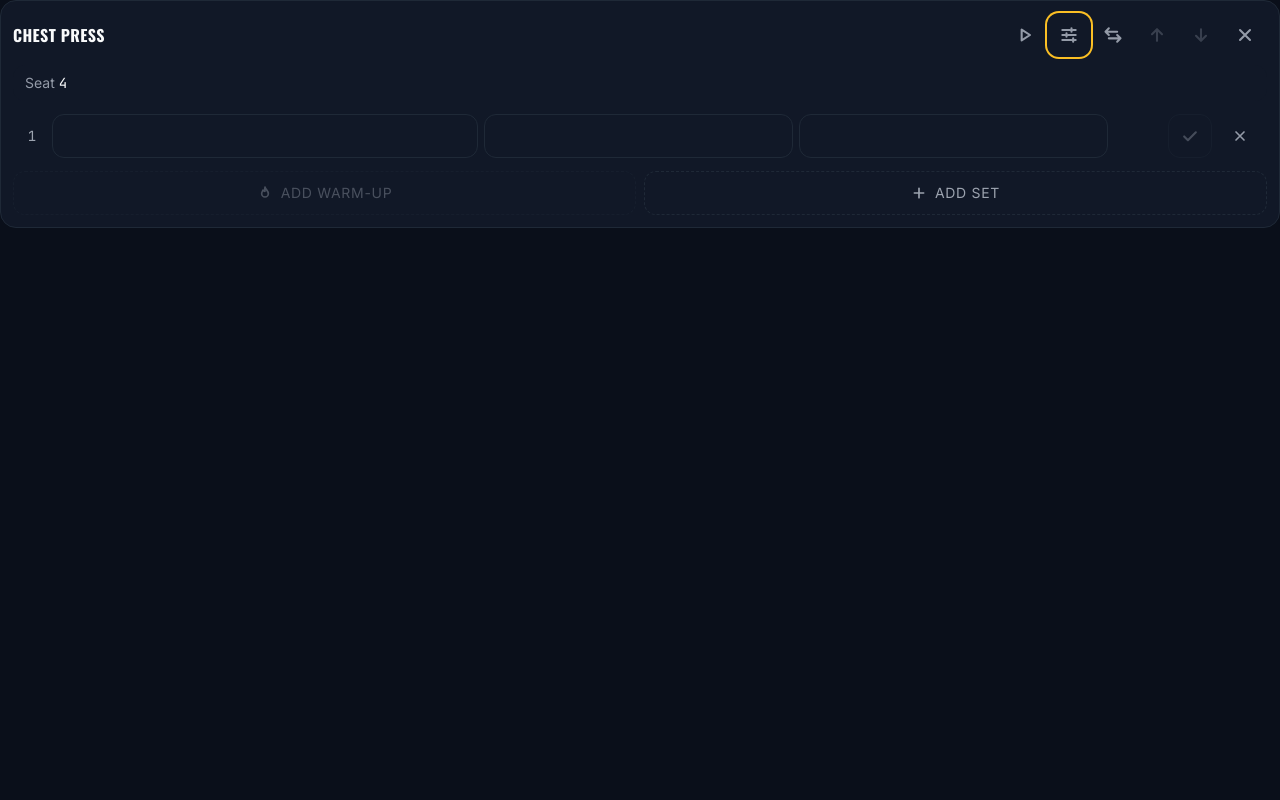
Test: machine setup on the exercise card › edit → save writes via useWorkout().setup.save, closes the sheet and shows the saved setup
The image size is (1280, 800).
Expected: the element with test id "exercise-setup" is shown, [13,65,1267,101]
Click the button with test id "edit-setup" at (1069, 35), box [1047,13,1091,57]
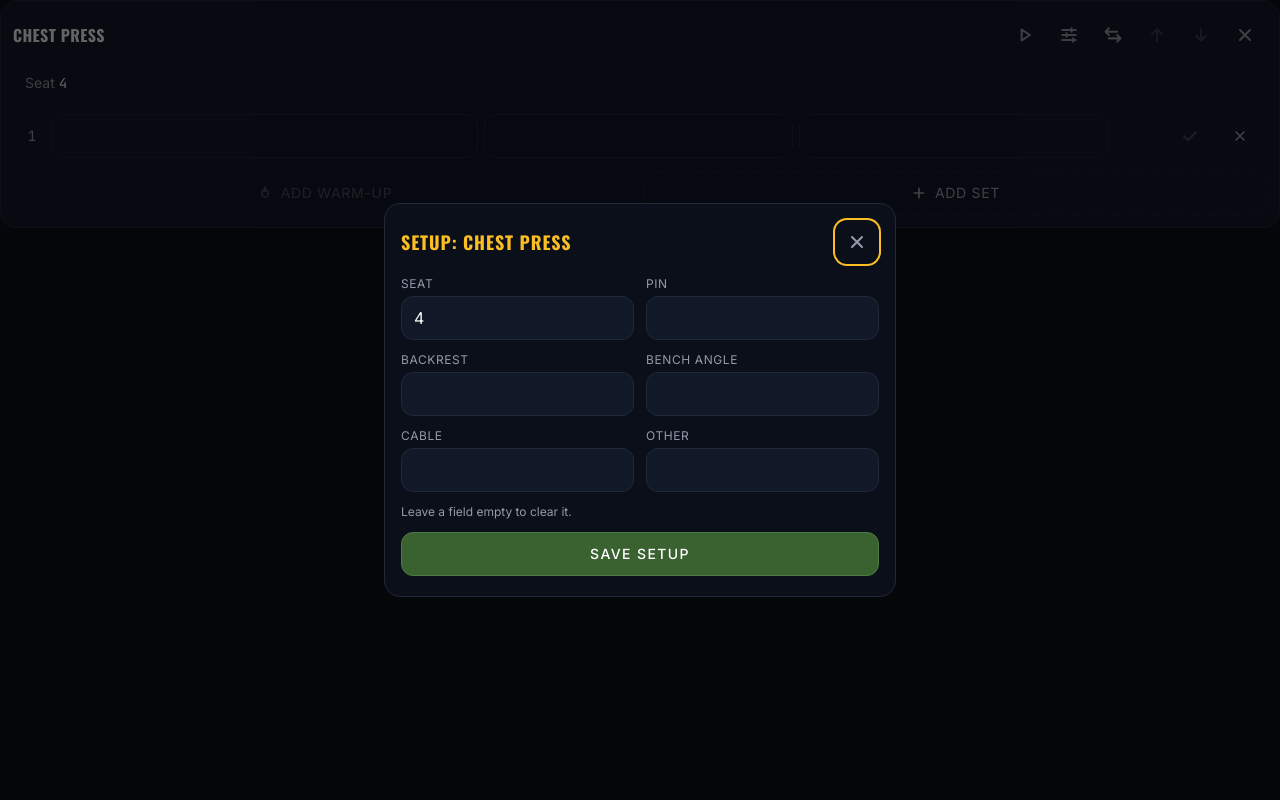
Expected: the field with test id "setup-seat" holds "4", [401,296,634,340]
Type "7" into the field with test id "setup-pin" at (762, 318), box [646,296,879,340]
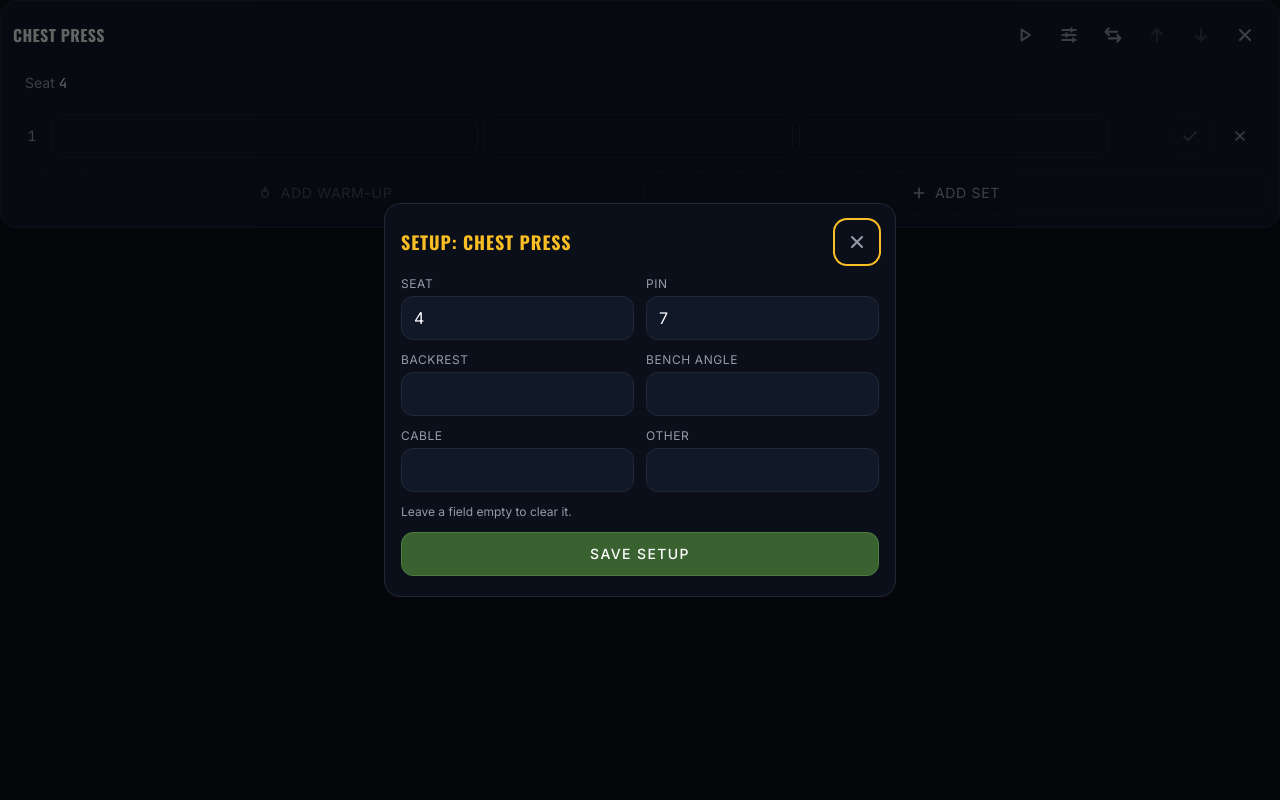
Replace the text in the field with test id "setup-seat" with "5" at (518, 318), box [401,296,634,340]
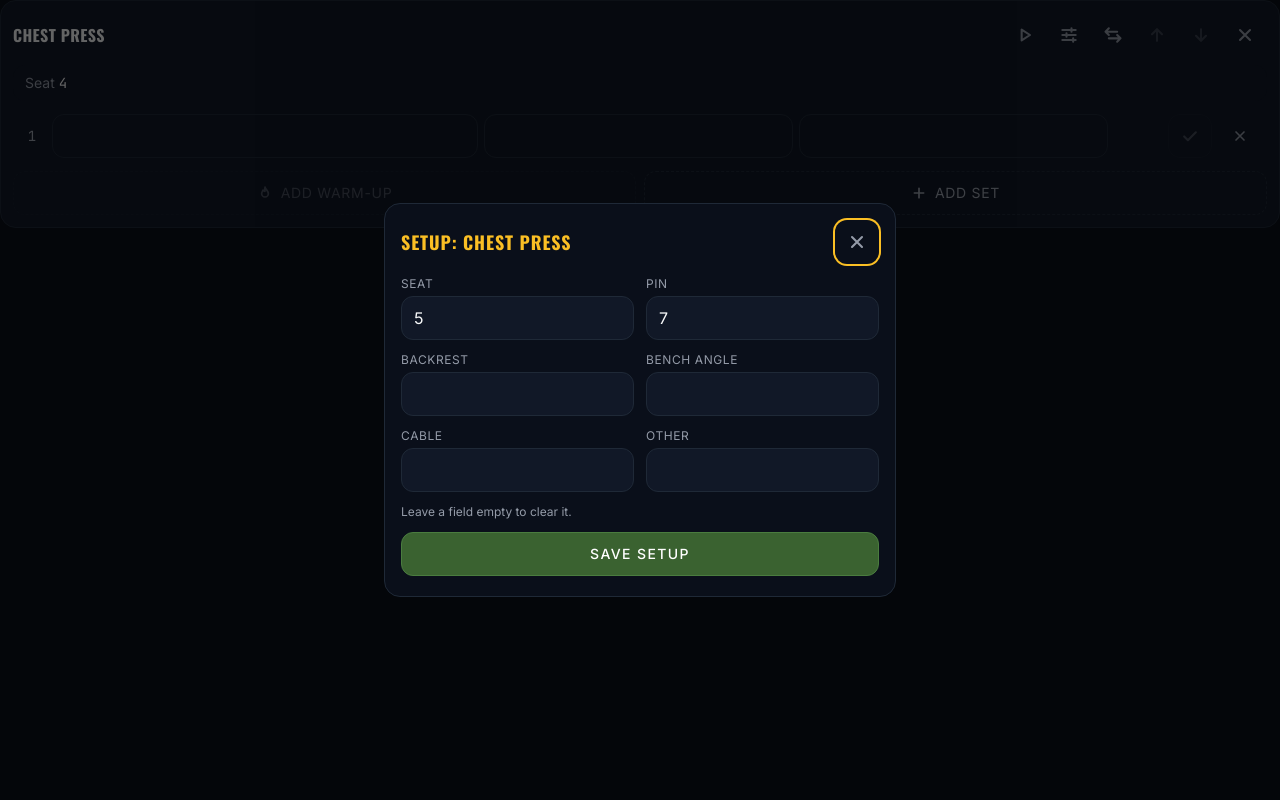
Click the button with test id "setup-save" at (640, 554), box [401,532,879,576]
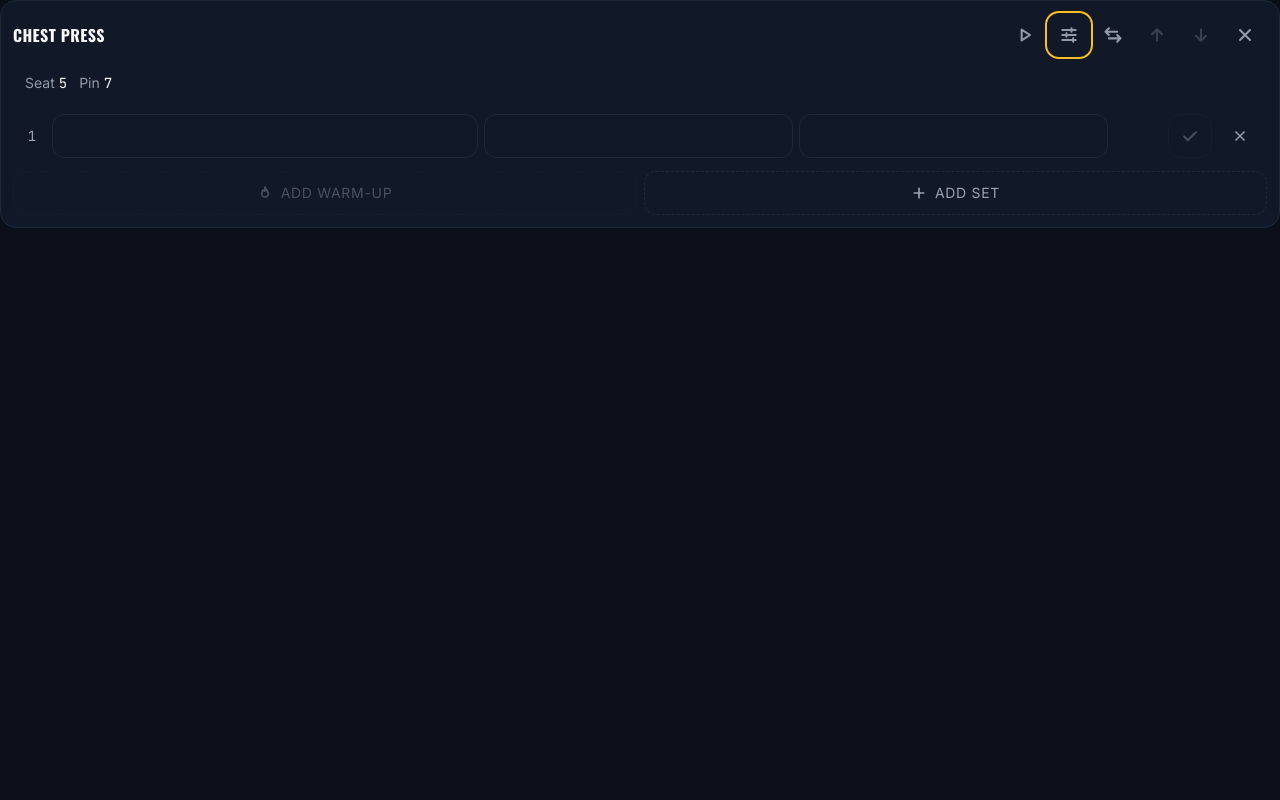
Expected: the dialog with test id "setup-sheet" is gone
